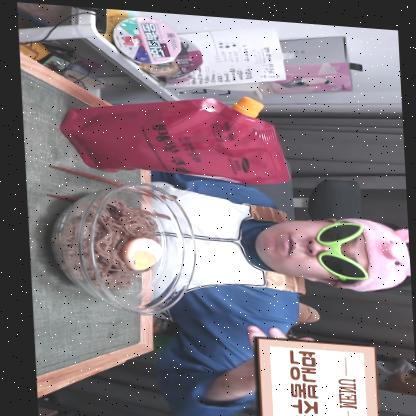streamer: (149, 167, 414, 416)
